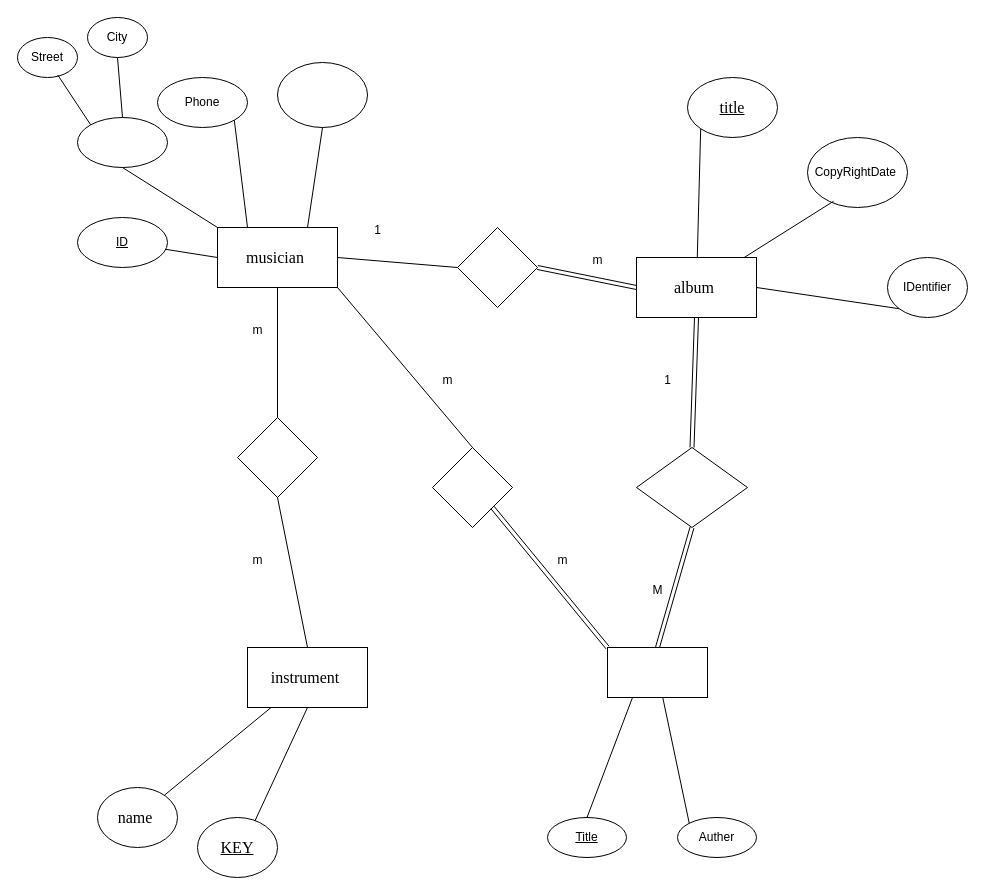
The diagram is 985 pixels wide and 895 high, and some of its shapes have lost their labels. The centre of each missing label's shape, as x and y in pixels:
"Address" goes at (122,142).
"Has" goes at (692,487).
"Name" goes at (322,95).
"Perform" goes at (472,487).
"Play" goes at (277,457).
"Produce" goes at (497,267).
"Song" goes at (657,672).
